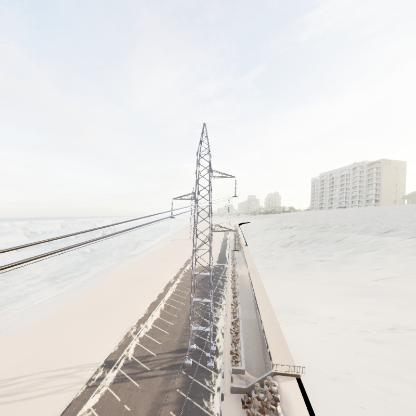tower: (164, 124, 245, 373)
